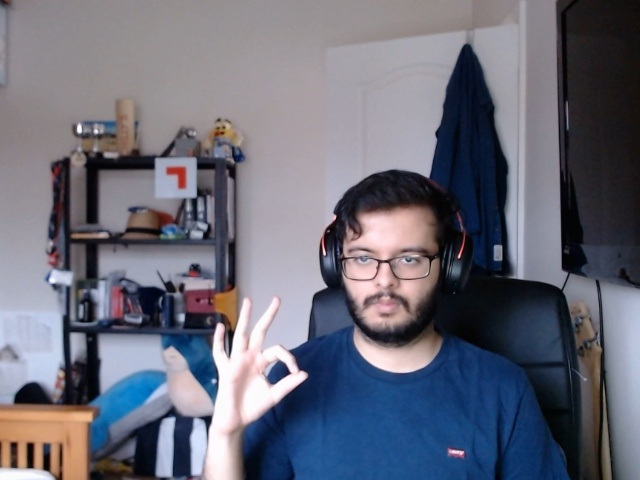Okay: (194, 293, 318, 437)
